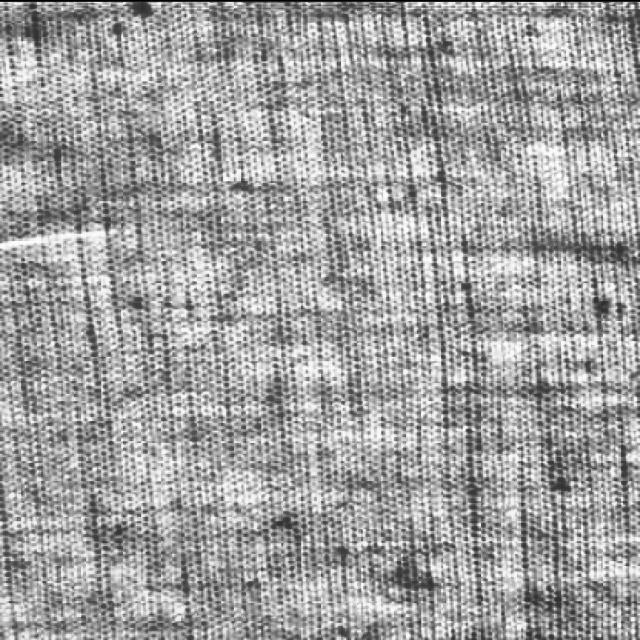hole: (0, 217, 138, 268)
